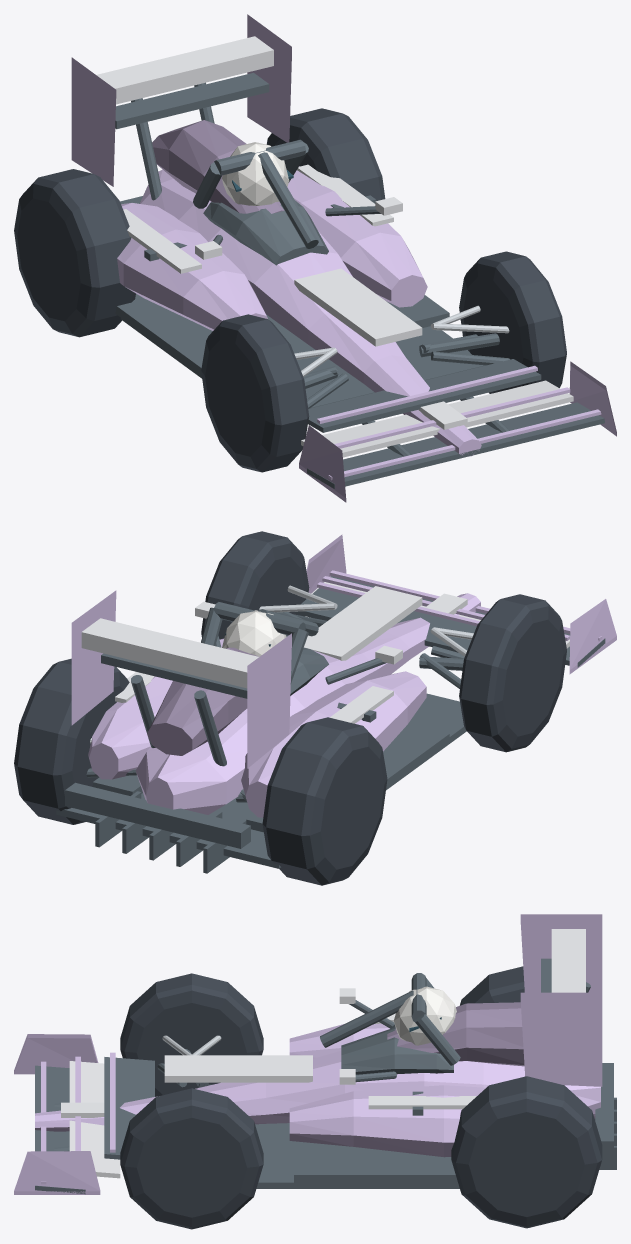
File: byd_mobile.glb
3 views of the same model, one above another, from view 1: azimuth 30°, elevation 25°; view 2: azimuth 150°, elevation 25°; view 3: azimuth 270°, elevation 25° (orthographic). The views are drawn at different scales.
Parts seen in each view (by area): view 1: BODY_paint, BODY_carbon, BODY_accent, RearLeftWheel_rubber, FrontLeftWheel_rubber, FrontRightWheel_rubber, RearRightWheel_rubber, BODY_paint_dark, BODY_helmet, BODY_metal; view 2: BODY_paint, BODY_carbon, RearLeftWheel_rubber, FrontLeftWheel_rubber, BODY_accent, RearRightWheel_rubber, FrontRightWheel_rubber, BODY_paint_dark, BODY_helmet, BODY_metal; view 3: BODY_paint, BODY_carbon, RearRightWheel_rubber, FrontRightWheel_rubber, BODY_accent, FrontLeftWheel_rubber, BODY_paint_dark, BODY_helmet, RearLeftWheel_rubber.
Part boxes in pixels (left/top/right/bottom): BODY_paint: left=71, top=14, right=616, bottom=502; BODY_carbon: left=115, top=72, right=604, bottom=488; BODY_accent: left=96, top=36, right=573, bottom=457; RearLeftWheel_rubber: left=14, top=169, right=135, bottom=337; FrontLeftWheel_rubber: left=201, top=314, right=309, bottom=472; FrontRightWheel_rubber: left=459, top=251, right=566, bottom=393; RearRightWheel_rubber: left=266, top=108, right=385, bottom=200; BODY_paint_dark: left=152, top=120, right=284, bottom=213; BODY_helmet: left=222, top=142, right=289, bottom=205; BODY_metal: left=294, top=305, right=509, bottom=376; BODY_paint: left=71, top=534, right=616, bottom=817; BODY_carbon: left=56, top=576, right=605, bottom=873; RearLeftWheel_rubber: left=262, top=717, right=387, bottom=885; FrontLeftWheel_rubber: left=459, top=594, right=566, bottom=752; BODY_accent: left=81, top=582, right=569, bottom=723; RearRightWheel_rubber: left=14, top=658, right=129, bottom=824; FrontRightWheel_rubber: left=201, top=531, right=309, bottom=639; BODY_paint_dark: left=147, top=647, right=258, bottom=755; BODY_helmet: left=222, top=610, right=286, bottom=656; BODY_metal: left=90, top=585, right=473, bottom=743; BODY_paint: left=14, top=914, right=602, bottom=1194; BODY_carbon: left=35, top=958, right=616, bottom=1194; RearRightWheel_rubber: left=451, top=1076, right=602, bottom=1228; FrontRightWheel_rubber: left=120, top=1088, right=263, bottom=1229; BODY_accent: left=61, top=929, right=585, bottom=1178; FrontLeftWheel_rubber: left=120, top=973, right=263, bottom=1096; BODY_paint_dark: left=387, top=1002, right=524, bottom=1066; BODY_helmet: left=394, top=986, right=456, bottom=1045; RearLeftWheel_rubber: left=460, top=966, right=524, bottom=1005.
Size of the model in its own units: 2.59 by 1.9 by 4.88.
